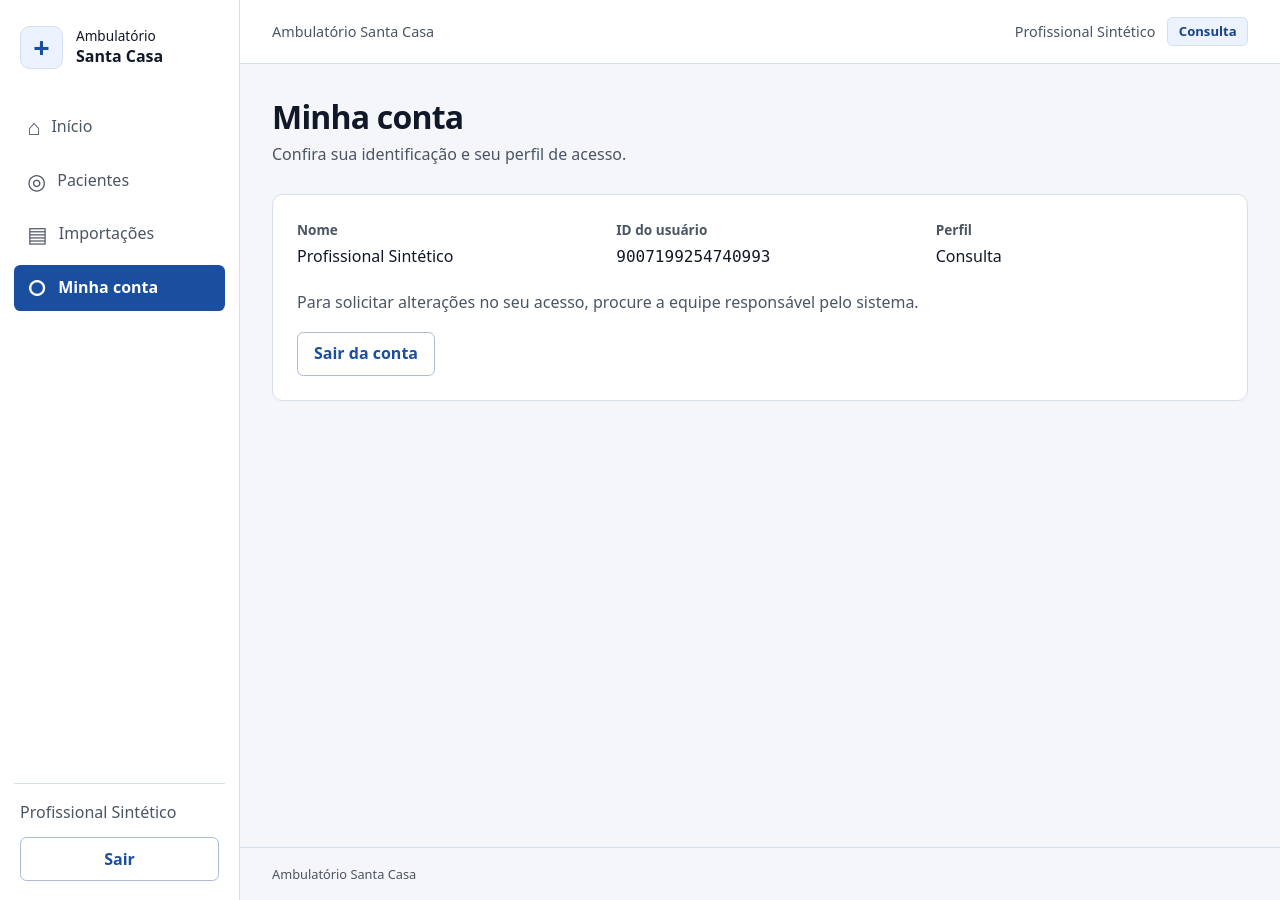
it: 7D-U4.1 — conta, falha de identidade e página desconhecida › mostra identidade real e orientação de suporte, sem inventar login/status ou edição de perfil
The width and height of the screenshot is (1280, 900).
expect the heading "Minha conta" is shown: met, box x1=272 y1=95 x2=463 y2=138
expect the text "9007199254740993" is shown: met, box x1=616 y1=246 x2=770 y2=266
Click the button "Sair da conta" at (366, 354), box x1=297 y1=332 x2=435 y2=376
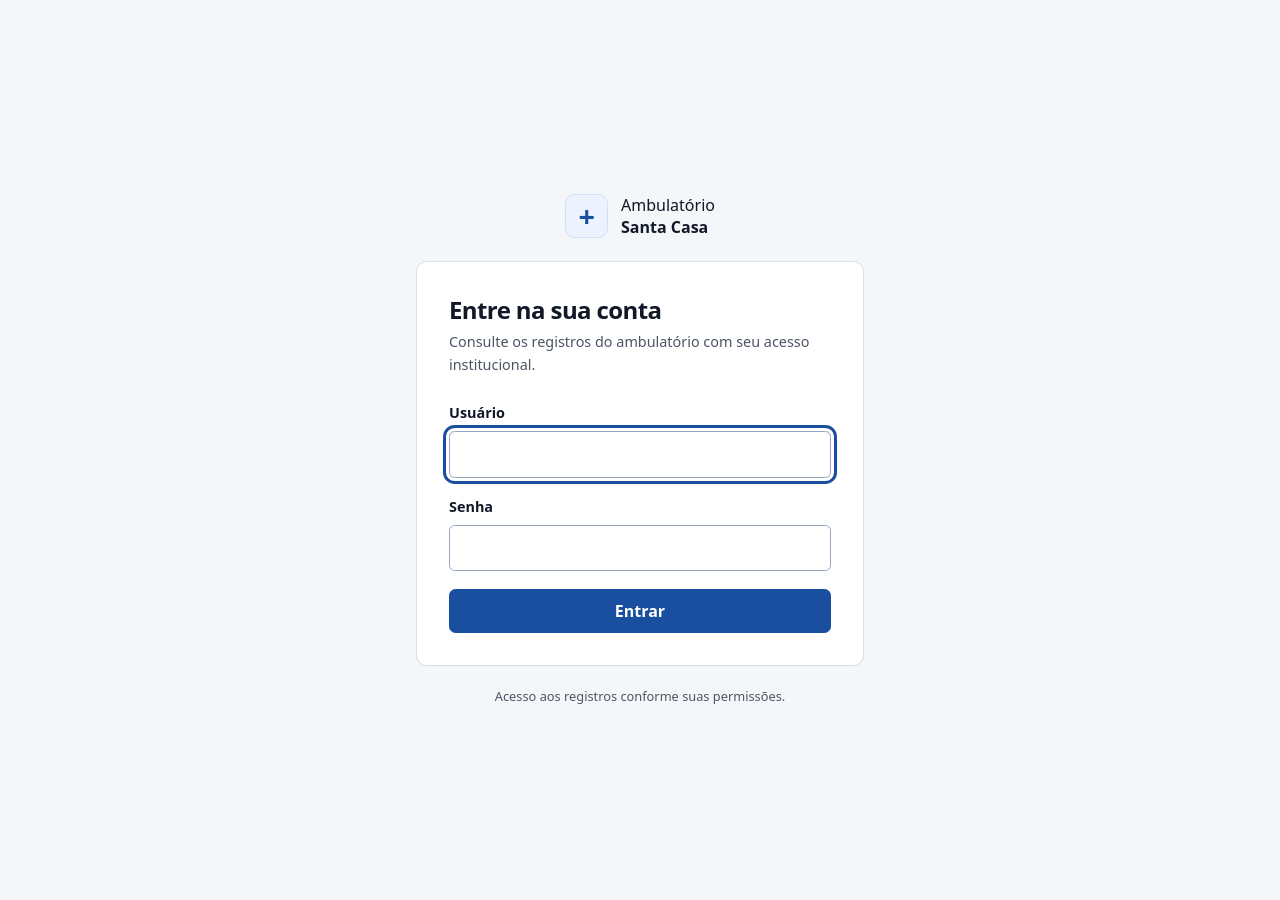
expect the heading "Entre na sua conta" is shown: met, box x1=449 y1=293 x2=662 y2=326
expect the text "9007199254740993" is gone: met
